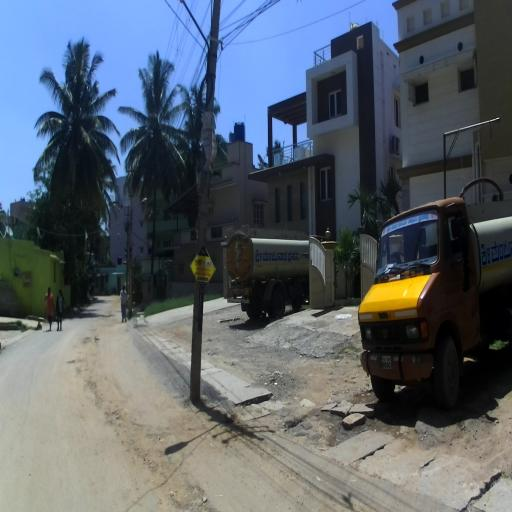street_light_0: (114, 202, 132, 231), (130, 197, 146, 219), (117, 232, 129, 248)
